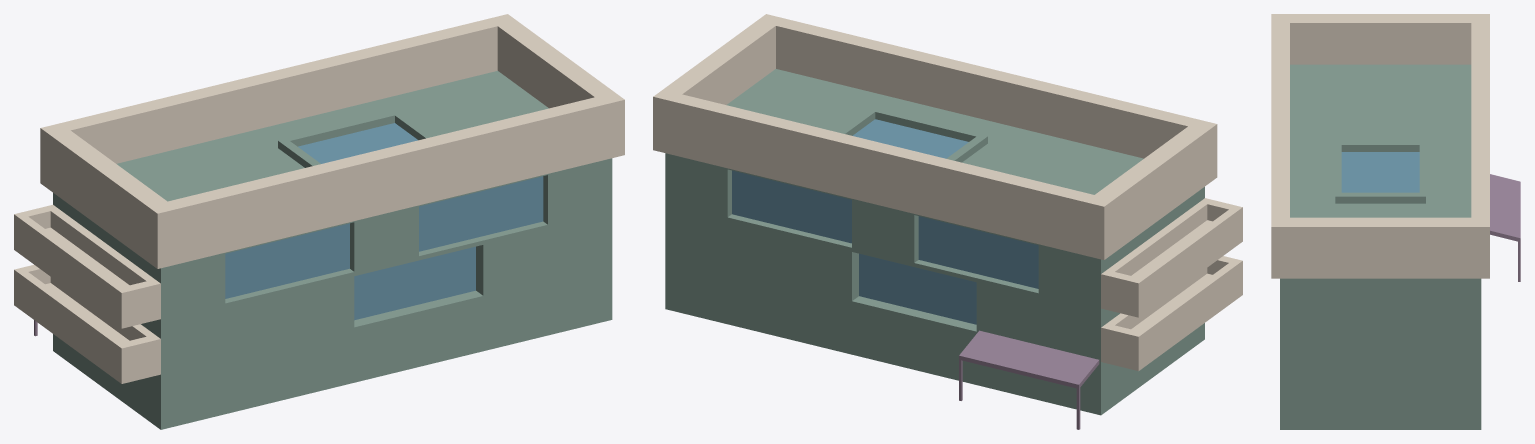
The model's file is house_8.fbx.
3 views of the same model, side by side, from view 1: azimuth 30°, elevation 25°; view 2: azimuth 150°, elevation 25°; view 3: azimuth 270°, elevation 25° (orthographic). The views are drawn at different scales.
Parts seen in each view (by area): view 1: pCube195; view 2: pCube195; view 3: pCube195.
Boxes of the visible parts, box(x1,y1,x2,y2) form: pCube195: box(14, 14, 624, 429); pCube195: box(653, 14, 1242, 429); pCube195: box(1271, 14, 1520, 429).
Size of the model in its own units: 40.53 by 18.8 by 17.22.
